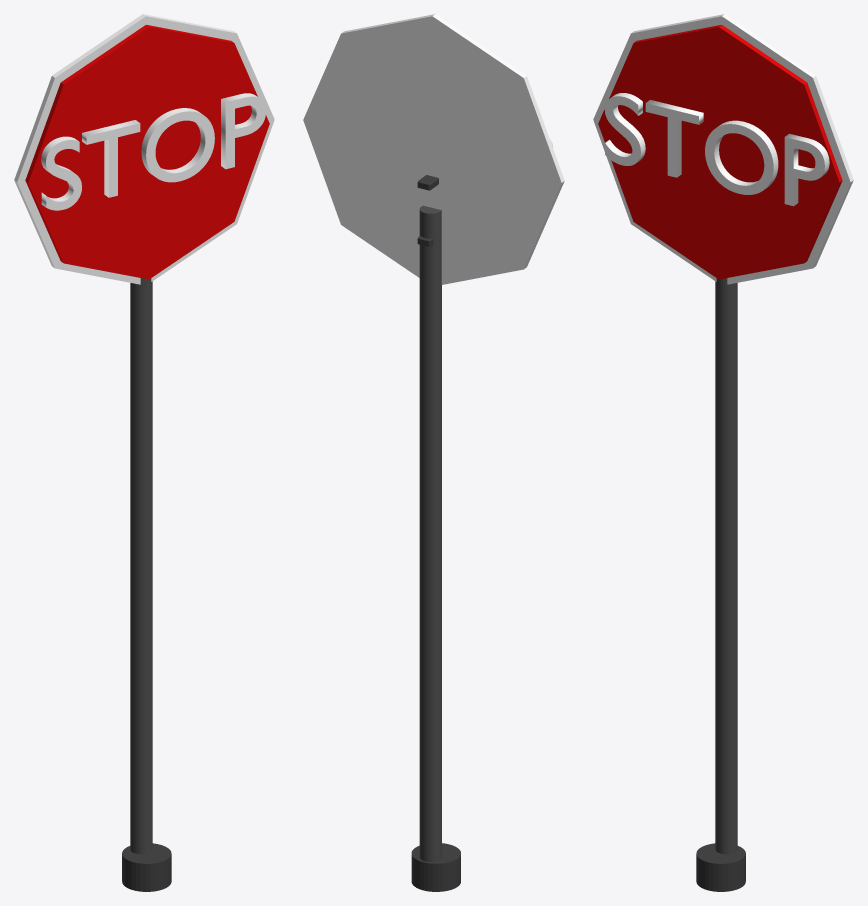
3 views of the same model, side by side, from view 1: azimuth 30°, elevation 25°; view 2: azimuth 150°, elevation 25°; view 3: azimuth 330°, elevation 25° (orthographic).
Parts seen in each view (by area): view 1: Cylinder.003, Cylinder.001, Text, Cylinder.002, Cylinder; view 2: Cylinder.002, Cylinder.001, Cylinder; view 3: Cylinder.003, Cylinder.001, Text, Cylinder.002, Cylinder.
Part boxes in pixels (left/top/right/bottom): Cylinder.003: left=25, top=24, right=269, bottom=279; Cylinder.001: left=130, top=278, right=152, bottom=854; Text: left=41, top=93, right=265, bottom=210; Cylinder.002: left=14, top=14, right=274, bottom=284; Cylinder: left=122, top=843, right=171, bottom=891; Cylinder.002: left=303, top=14, right=564, bottom=284; Cylinder.001: left=419, top=205, right=441, bottom=861; Cylinder: left=411, top=843, right=460, bottom=891; Cylinder.003: left=598, top=24, right=842, bottom=279; Cylinder.001: left=715, top=278, right=737, bottom=854; Text: left=604, top=93, right=829, bottom=206; Cylinder.002: left=593, top=14, right=853, bottom=284; Cylinder: left=696, top=843, right=745, bottom=891.
Bounding box in the file's own units: 0.96 × 3.08 × 0.163.
